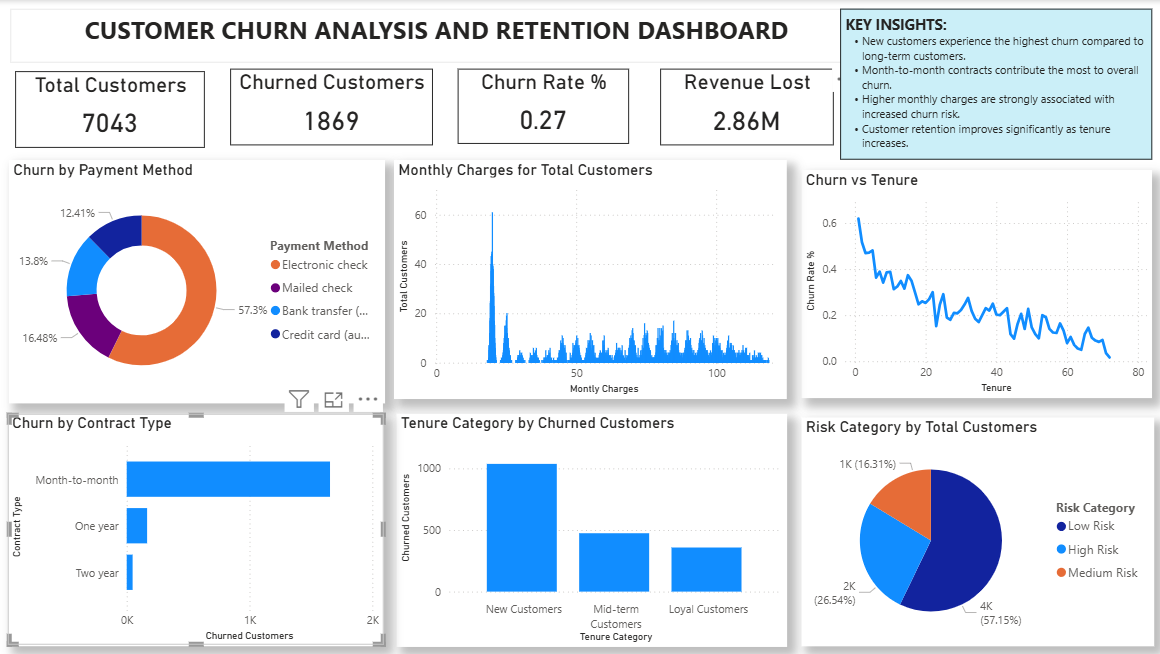

What the dashboard file says about the page in this screenshot:
{"tool":"powerbi","page":{"name":"Page 1","canvas":[1280,720],"ordinal":0},"visuals":[{"type":"card","title":"Churned Customers","fields":{"Values":["telco_churn_cleaned.Churned Customers"]},"box":[254,76,222,84],"z":0},{"type":"card","title":"Revenue Lost","fields":{"Values":["telco_churn_cleaned.Revenue Lost"]},"box":[726,76,190,84],"z":1000},{"type":"card","title":"Total Customers","fields":{"Values":["telco_churn_cleaned.Total Customers"]},"box":[18,78,208,84],"z":2000},{"type":"card","title":"Churn Rate %","fields":{"Values":["telco_churn_cleaned.Churn Rate %"]},"box":[504,76,188,82],"z":3000},{"type":"clusteredBarChart","title":"Churn by Contract Type","fields":{"Category":["telco_churn_cleaned.Contract"],"Y":["telco_churn_cleaned.Churned Customers"]},"box":[10,453.8,412.5,255],"z":4000},{"type":"donutChart","title":"Churn by Payment Method","fields":{"Category":["telco_churn_cleaned.Payment_Method"],"Y":["telco_churn_cleaned.Churned Customers"]},"box":[11.2,175,412.5,267.5],"z":4001},{"type":"lineChart","title":"Churn vs Tenure","fields":{"Y":["telco_churn_cleaned.Churn Rate %"],"Category":["telco_churn_cleaned.tenure"]},"box":[881.1,186.7,384.4,250],"z":4002},{"type":"columnChart","title":"Monthly Charges for Total Customers","fields":{"Category":["telco_churn_cleaned.Monthly_Charges"],"Y":["telco_churn_cleaned.Total Customers"]},"box":[433.8,175,431.2,262.5],"z":4003},{"type":"columnChart","title":"Tenure Category by Churned Customers","fields":{"Y":["telco_churn_cleaned.Churned Customers"],"Category":["telco_churn_cleaned.Tenure Category"]},"box":[436.2,453.8,428.8,256.2],"z":4004},{"type":"pieChart","title":"Risk Category by Total Customers","fields":{"Category":["telco_churn_cleaned.Risk Category"],"Y":["telco_churn_cleaned.Total Customers"]},"box":[881.2,458.8,387.5,251.2],"z":4005},{"type":"textbox","box":[12,10,936,58],"z":4006},{"type":"textbox","box":[923.3,10,342.2,165.6],"z":4007}]}

Visuals, with their boxes in screenshot pixels (x1, y1, x2, y2), scaled from the page's 1280x720 canvas onto the 1160x654 screenshot:
"Churned Customers" card: <box>230,69,431,145</box>
"Revenue Lost" card: <box>658,69,830,145</box>
"Total Customers" card: <box>16,71,205,147</box>
"Churn Rate %" card: <box>457,69,627,144</box>
"Churn by Contract Type" clusteredBarChart: <box>9,412,383,644</box>
"Churn by Payment Method" donutChart: <box>10,159,384,402</box>
"Churn vs Tenure" lineChart: <box>798,170,1147,397</box>
"Monthly Charges for Total Customers" columnChart: <box>393,159,784,397</box>
"Tenure Category by Churned Customers" columnChart: <box>395,412,784,645</box>
"Risk Category by Total Customers" pieChart: <box>799,417,1150,645</box>
textbox: <box>11,9,859,62</box>
textbox: <box>837,9,1147,160</box>
